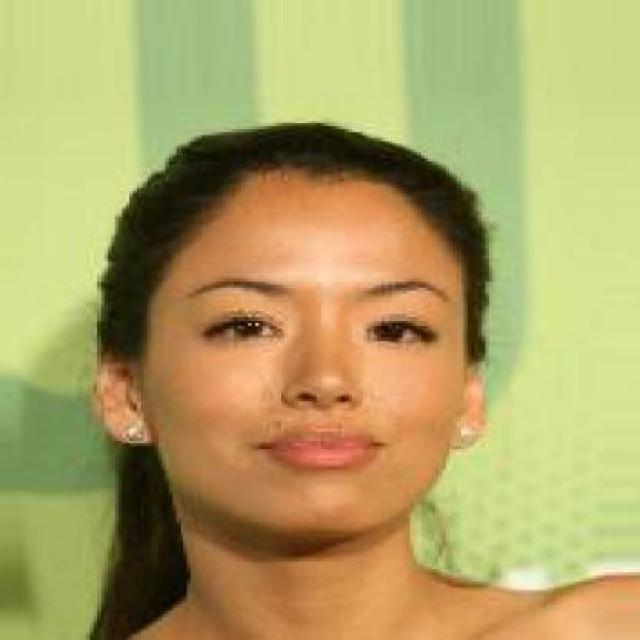closed-mouth: (249, 420, 397, 478)
